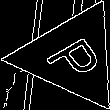P_NE: (36, 28, 106, 86)
